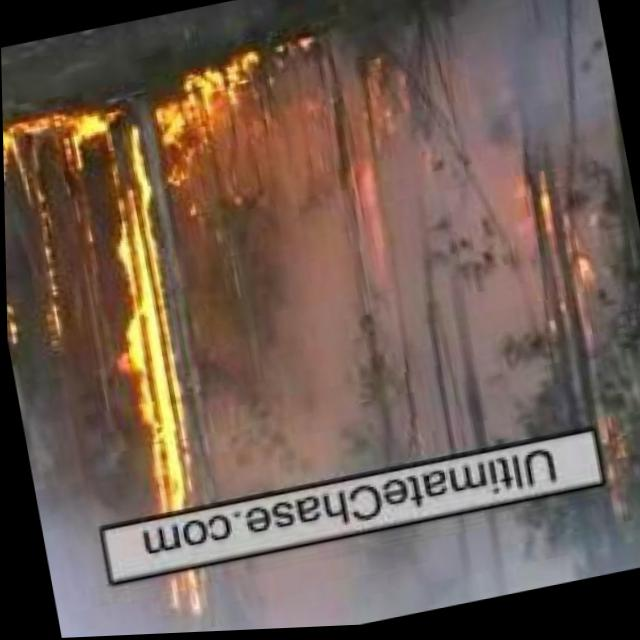Fire: (81, 103, 214, 616), (142, 53, 290, 196), (2, 122, 39, 190)
